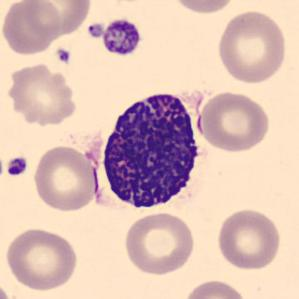Basophil: (94, 83, 211, 218)
Platelets: (100, 16, 143, 58), (4, 155, 29, 178), (87, 21, 104, 39), (54, 47, 72, 64)
RBC: (214, 7, 289, 85), (3, 61, 80, 128), (3, 225, 80, 292), (121, 210, 197, 277), (30, 142, 100, 214), (196, 89, 272, 153), (214, 206, 284, 272), (0, 0, 61, 56), (23, 0, 93, 38), (180, 277, 247, 299), (168, 0, 239, 15), (0, 277, 14, 299)
